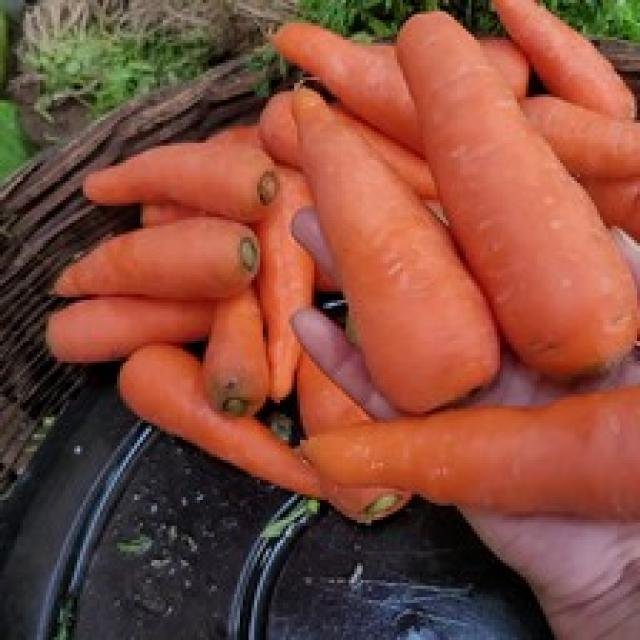Fresh_Carrot: (401, 0, 636, 383), (290, 79, 501, 412)
